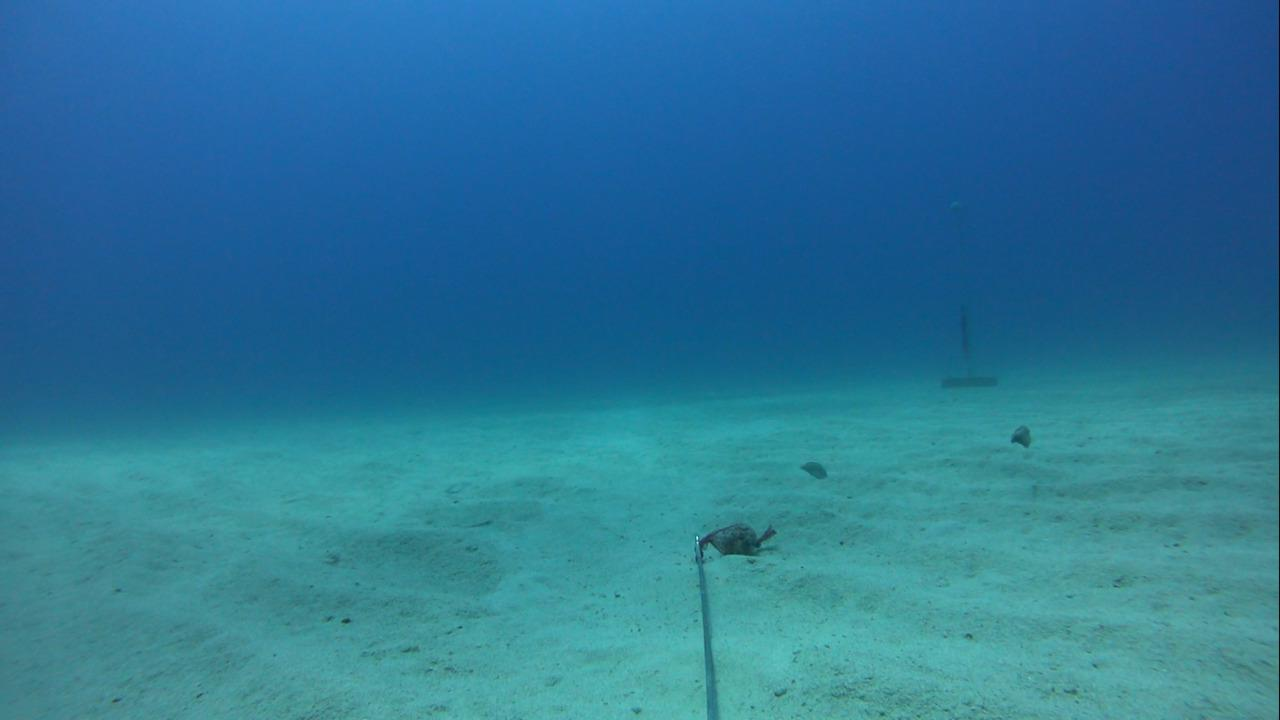raor: (1004, 416, 1045, 458), (791, 451, 838, 486)
